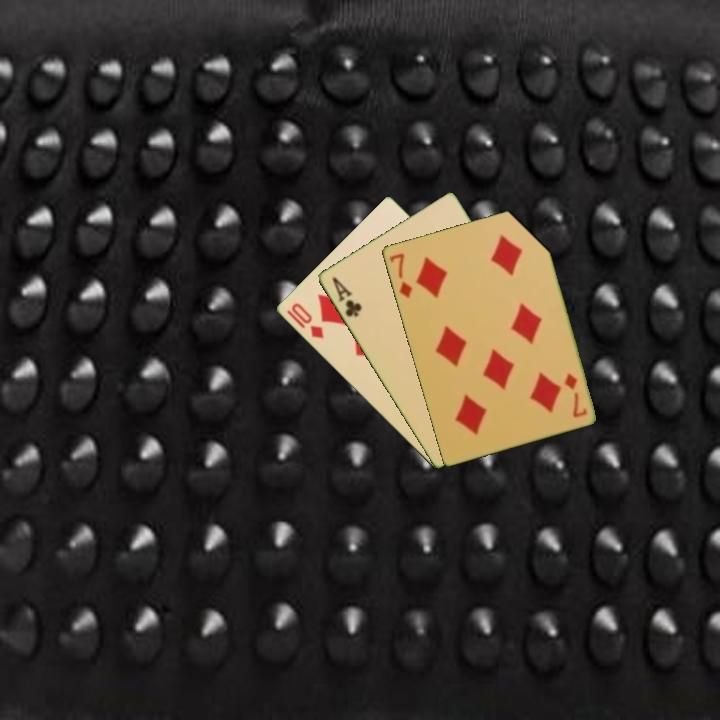10d: (283, 299, 327, 342)
7d: (560, 369, 590, 420), (386, 249, 415, 301)
Ac: (328, 273, 365, 320)
